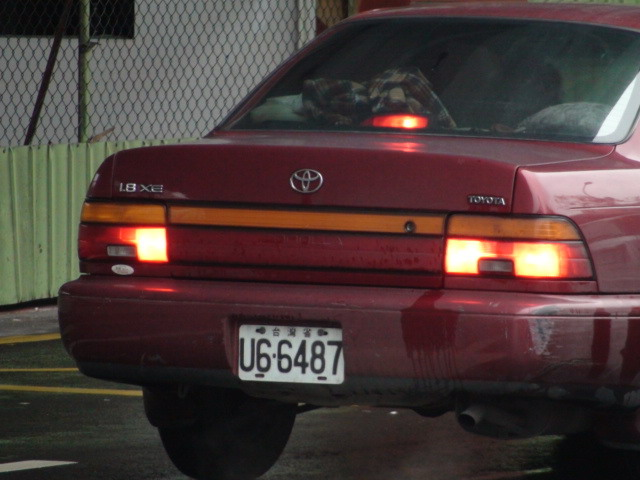plate: (234, 318, 352, 390)
